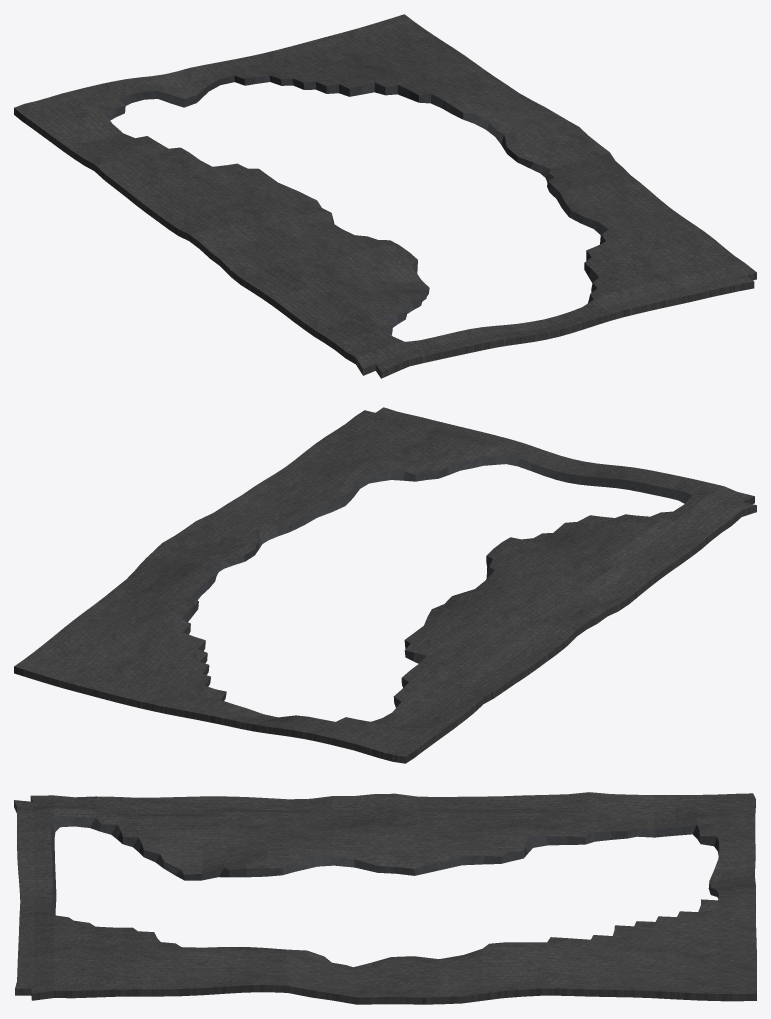
The model's file is Big Broken.fbx.
3 views of the same model, one above another, from view 1: azimuth 30°, elevation 25°; view 2: azimuth 150°, elevation 25°; view 3: azimuth 270°, elevation 25° (orthographic). The views are drawn at different scales.
Parts seen in each view (by area): view 1: Crack; view 2: Crack; view 3: Crack.
Boxes of the visible parts, x1,y1,x2,y2 form: Crack: (14, 14, 756, 378); Crack: (14, 407, 756, 763); Crack: (14, 792, 756, 1004).
Bounding box in the file's own units: 566 × 42.27 × 869.
Materials: 1 (1 with a texture image).
